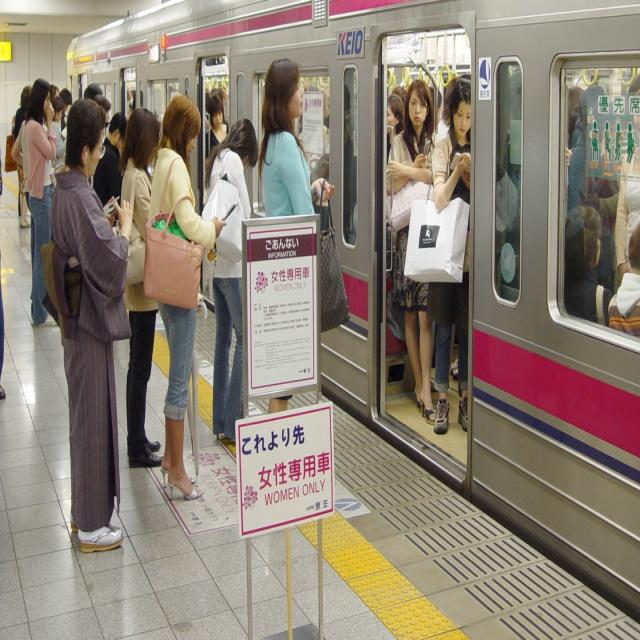body: (38, 93, 138, 559), (141, 90, 229, 506), (255, 56, 337, 414), (558, 61, 640, 343), (386, 78, 440, 424), (204, 116, 260, 442), (118, 105, 164, 471), (430, 76, 472, 436), (298, 81, 360, 245), (24, 78, 58, 328), (494, 77, 524, 301), (92, 110, 130, 228), (13, 84, 33, 230), (49, 81, 73, 174), (428, 75, 458, 144), (205, 94, 229, 172), (385, 84, 407, 166), (82, 82, 112, 128), (0, 248, 8, 404), (126, 79, 144, 116), (204, 92, 212, 134), (450, 356, 460, 381), (216, 90, 223, 102), (12, 114, 16, 135)
